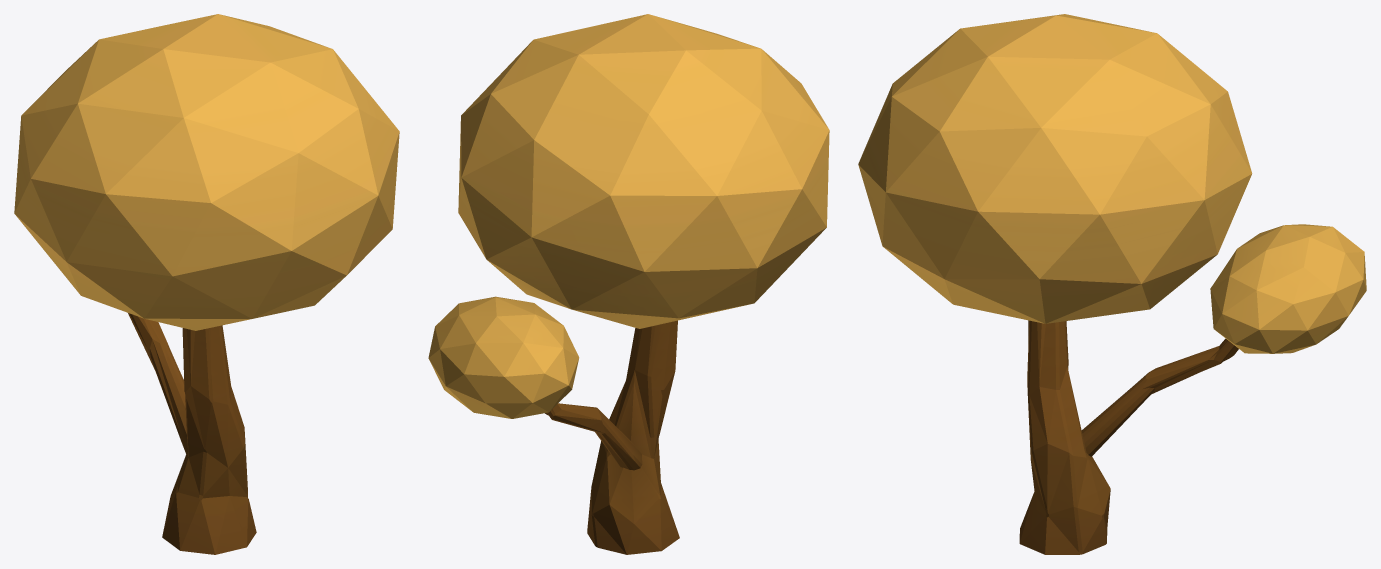
Rendered from tree_fruit.glb.
3 renders of one model, left to right at view 1: azimuth 30°, elevation 25°; view 2: azimuth 150°, elevation 25°; view 3: azimuth 270°, elevation 25°, orthographic.
Visible parts, largest first — view 1: Poplar Tree_1_AA; view 2: Poplar Tree_1_AA; view 3: Poplar Tree_1_AA.
Boxes of the visible parts, x1,y1,x2,y2 form: Poplar Tree_1_AA: [14, 14, 399, 554]; Poplar Tree_1_AA: [428, 14, 829, 554]; Poplar Tree_1_AA: [858, 14, 1366, 554].
Size of the model in its own units: 2.24 by 3.19 by 2.96.
Materials: 1 (1 with a texture image).
